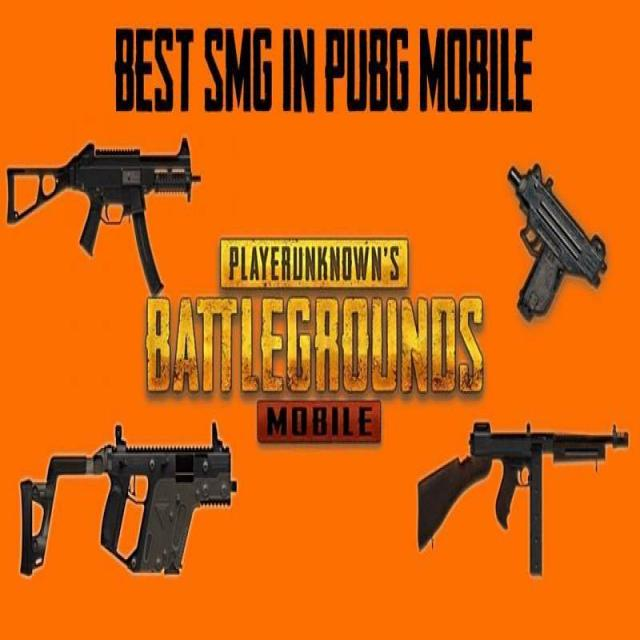weapon: (18, 420, 240, 580), (414, 418, 632, 580), (6, 135, 204, 300), (508, 157, 610, 327)
